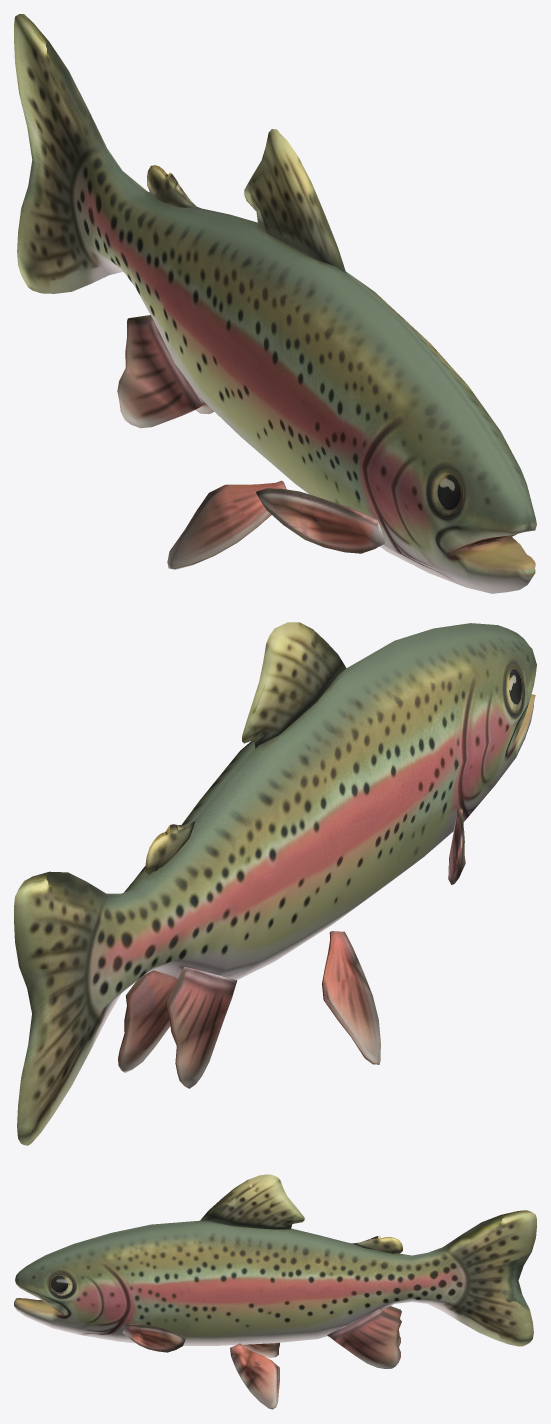
Rendered from Rainbow_Trout_01.fbx.
3 views of the same model, one above another, from view 1: azimuth 30°, elevation 25°; view 2: azimuth 150°, elevation 25°; view 3: azimuth 270°, elevation 25° (orthographic). The views are drawn at different scales.
Visible parts, largest first — view 1: Rainbow_Trout_01; view 2: Rainbow_Trout_01; view 3: Rainbow_Trout_01.
Boxes of the visible parts, <box> form: Rainbow_Trout_01: <box>14,14,536,593</box>; Rainbow_Trout_01: <box>14,622,536,1145</box>; Rainbow_Trout_01: <box>14,1174,536,1409</box>.
Bounding box in the file's own units: 23.63 × 43.95 × 99.8.
